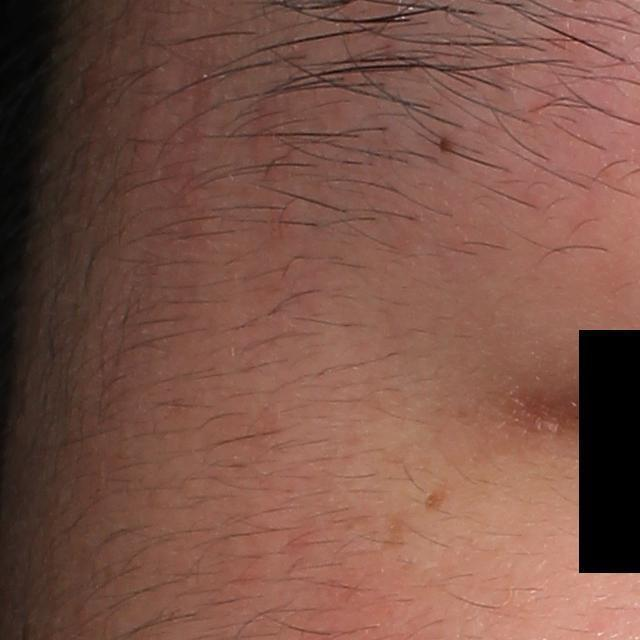nevus: (435, 133, 455, 160)
